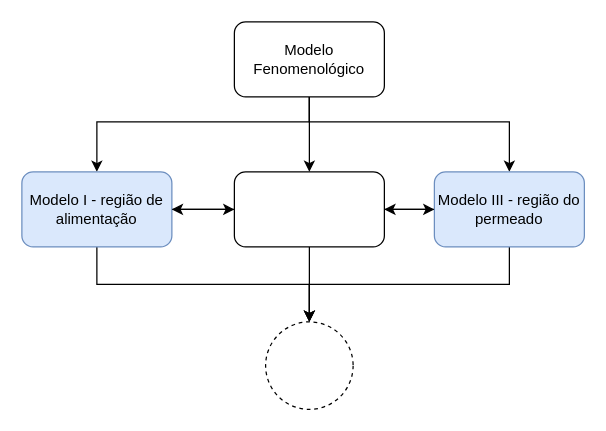
Some shapes in this 606 by 431 pixel diagram are drawn without their labels. The shapes that lost their labels are listed below. From the top down, each one's box as (x1, y1, x2, y2) in pixels, then its label:
(233, 171, 384, 247): Modelo II - região transmembrana
(264, 321, 353, 409): Parâmetros da membrana
